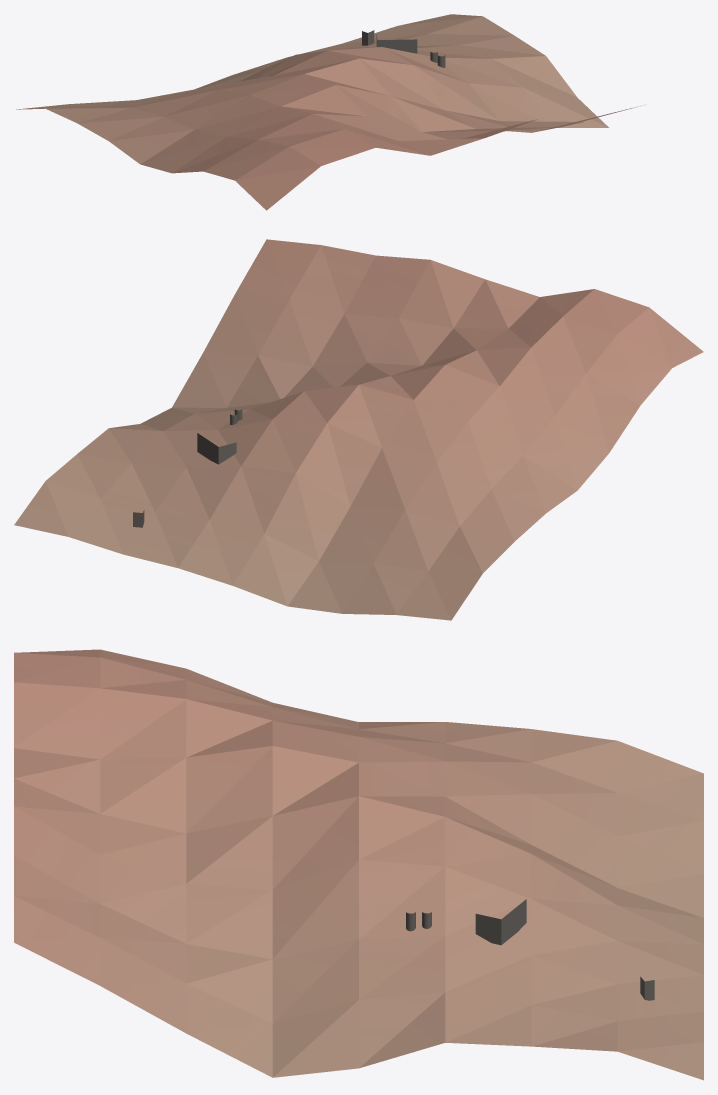
File: tile_19_-23_lod1.gltf
3 renders of one model, top to bottom at view 1: azimuth 30°, elevation 25°; view 2: azimuth 150°, elevation 25°; view 3: azimuth 270°, elevation 25°, orthographic. The views are drawn at different scales.
Parts seen in each view (by area): view 1: Terrain_col, Buildings_col; view 2: Terrain_col, Buildings_col; view 3: Terrain_col, Buildings_col.
Part boxes in pixels (box(x1,y1,x2,y2)): Terrain_col: box(16, 14, 644, 210); Buildings_col: box(362, 30, 445, 67); Terrain_col: box(14, 239, 703, 620); Buildings_col: box(133, 409, 242, 527); Terrain_col: box(14, 649, 703, 1080); Buildings_col: box(406, 899, 654, 1000).
Bounding box in the file's own units: 256 × 81.65 × 256.
